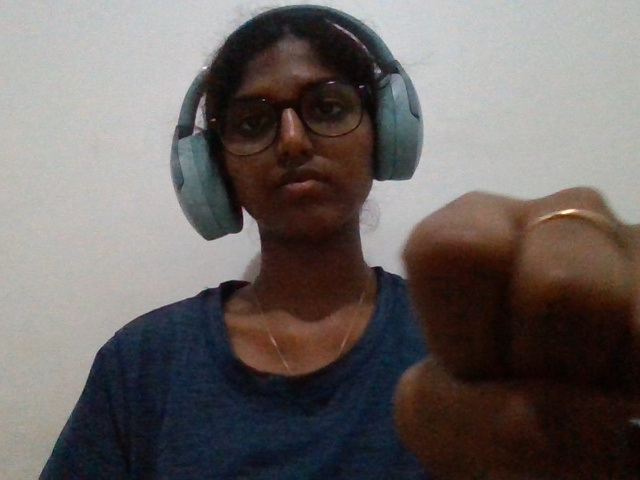Yes: (372, 157, 627, 480)
